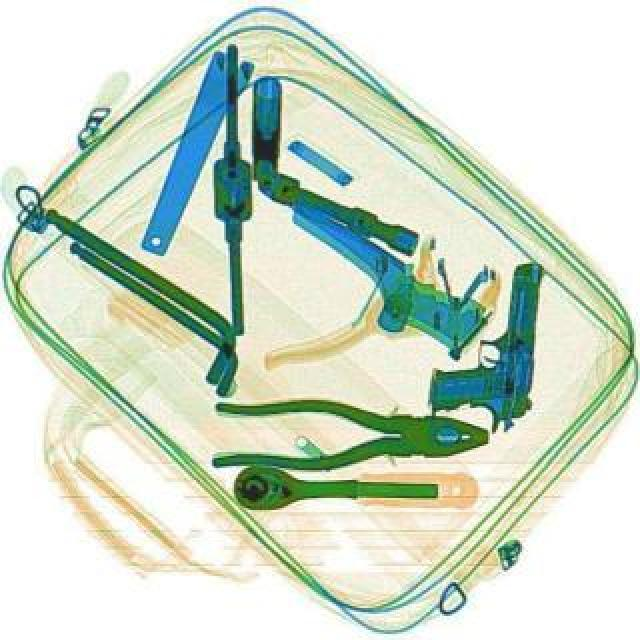gun: (424, 256, 540, 432)
wrench: (204, 396, 488, 472)
